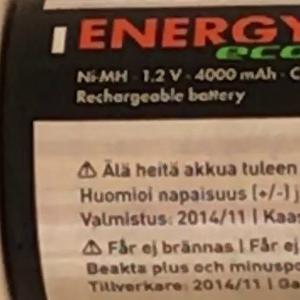NIMH: (69, 62, 135, 91)
